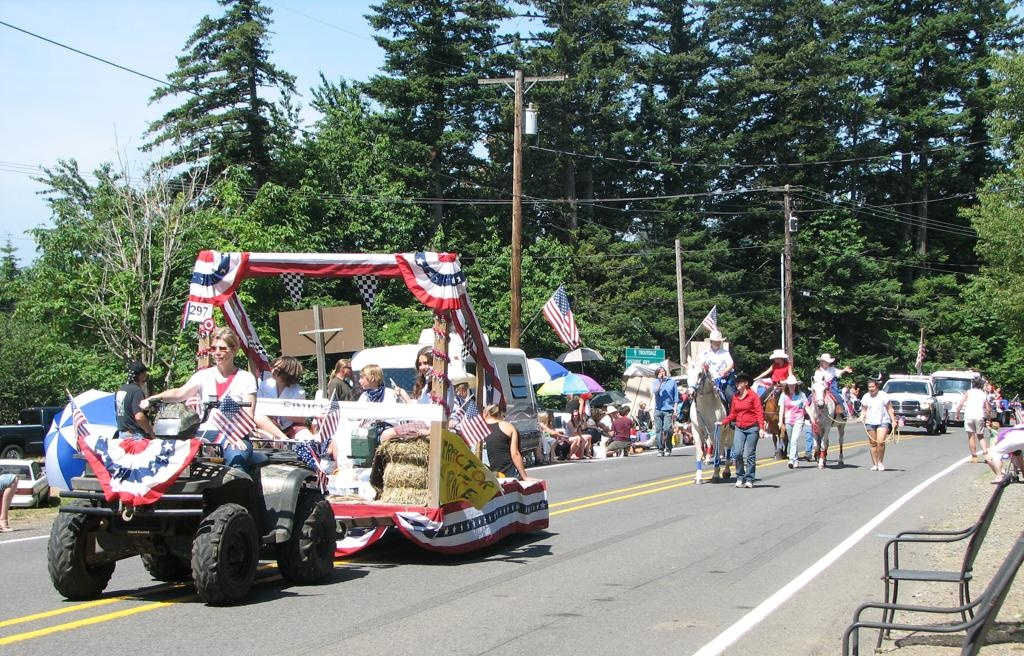human_face: (210, 338, 230, 366), (417, 353, 433, 376), (270, 358, 284, 380), (358, 370, 372, 390), (342, 362, 354, 376), (458, 384, 468, 398), (866, 383, 876, 395), (735, 378, 745, 390), (138, 370, 148, 380), (786, 383, 794, 395), (712, 339, 720, 350), (657, 368, 665, 378), (570, 412, 578, 420), (822, 360, 828, 368), (772, 357, 780, 363), (611, 410, 617, 418), (986, 384, 990, 392), (641, 402, 645, 410), (984, 419, 988, 426), (996, 387, 1000, 393), (558, 404, 562, 410)
